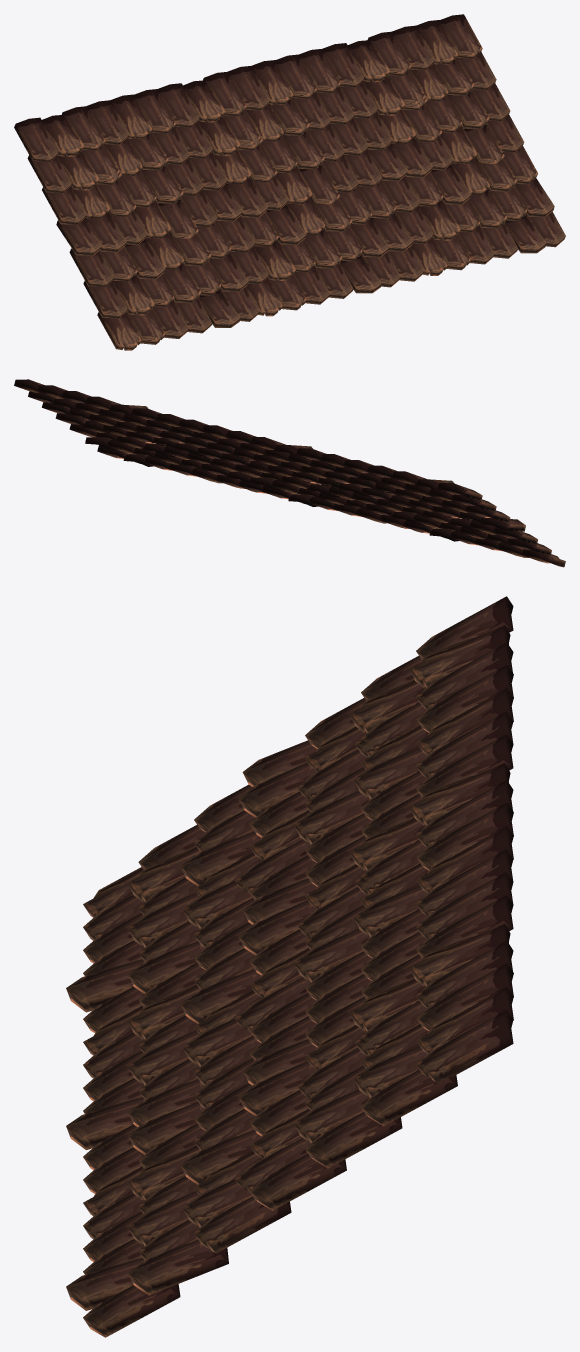
File: VV-RoofTile15.fbx
3 views of the same model, one above another, from view 1: azimuth 30°, elevation 25°; view 2: azimuth 150°, elevation 25°; view 3: azimuth 270°, elevation 25° (orthographic). The views are drawn at different scales.
Parts seen in each view (by area): view 1: RoofTile.15; view 2: RoofTile.15; view 3: RoofTile.15.
Part boxes in pixels (<box>): RoofTile.15: <box>14,14,565,350</box>; RoofTile.15: <box>14,379,565,567</box>; RoofTile.15: <box>66,596,513,1337</box>.
Size of the model in its own units: 5.72 by 1.91 by 2.47.
